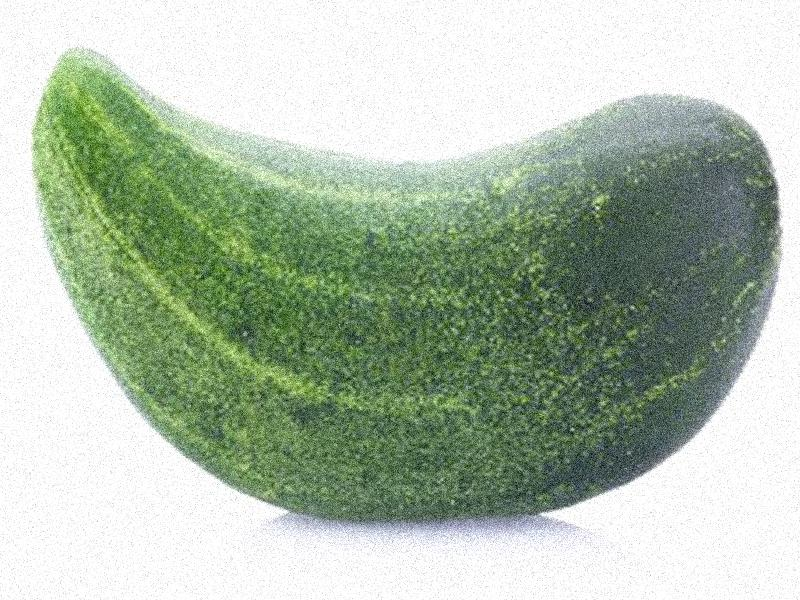Cucumber: (27, 50, 781, 521)
